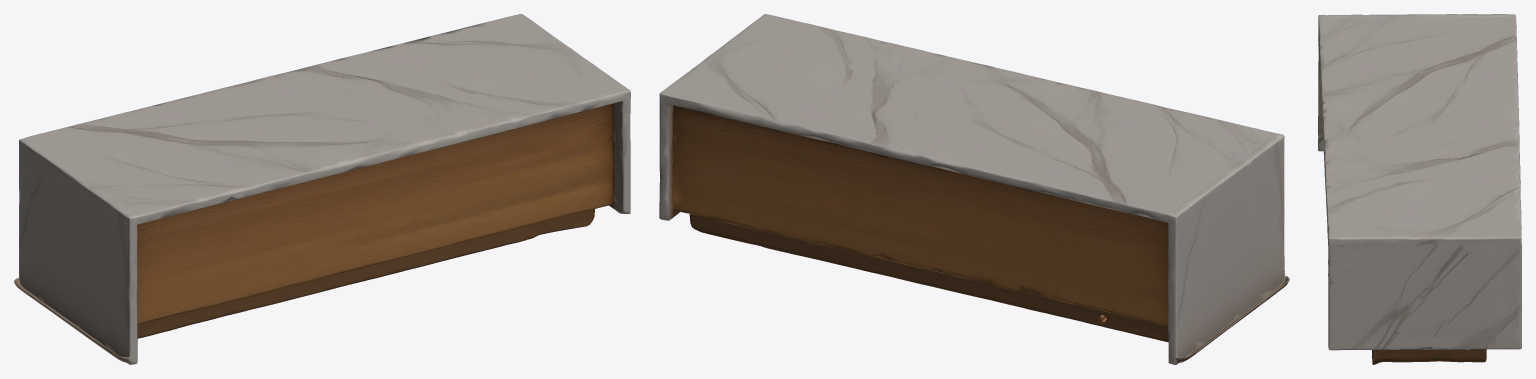
File: bar.glb
3 views of the same model, side by side, from view 1: azimuth 30°, elevation 25°; view 2: azimuth 150°, elevation 25°; view 3: azimuth 270°, elevation 25° (orthographic). The views are drawn at different scales.
Visible parts, largest first — view 1: tripo_node_245f85df-87e1-44c9-85c1-514fc6f34b78; view 2: tripo_node_245f85df-87e1-44c9-85c1-514fc6f34b78; view 3: tripo_node_245f85df-87e1-44c9-85c1-514fc6f34b78.
Boxes of the visible parts, bbox=[...] form: tripo_node_245f85df-87e1-44c9-85c1-514fc6f34b78: bbox=[14, 14, 630, 364]; tripo_node_245f85df-87e1-44c9-85c1-514fc6f34b78: bbox=[659, 14, 1289, 364]; tripo_node_245f85df-87e1-44c9-85c1-514fc6f34b78: bbox=[1318, 14, 1521, 364].
Bounding box in the file's own units: 3.6 × 1 × 1.36.
Materials: 1 (1 with a texture image).
